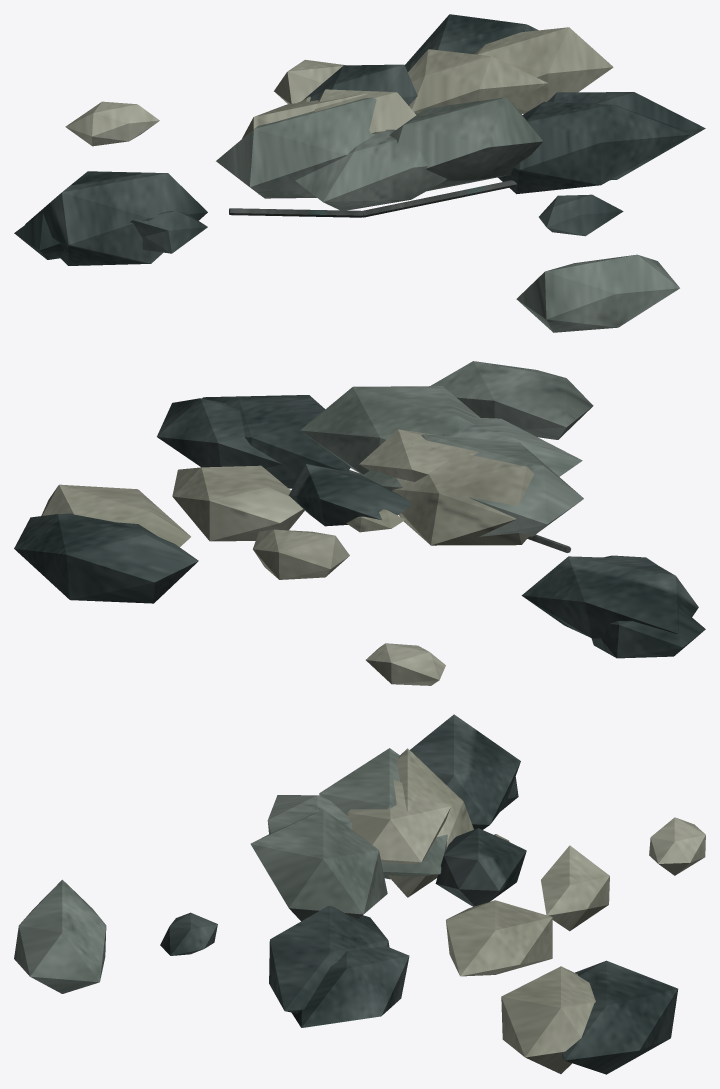
The model's file is 0112_scree_pile_12.glb.
The picture shows the model from 3 angles, top to bottom: view 1: azimuth 30°, elevation 25°; view 2: azimuth 150°, elevation 25°; view 3: azimuth 270°, elevation 25°; orthographic projection. The views are drawn at different scales.
Visible parts, largest first — view 1: stone_dark, stone, stone_light, iron; view 2: stone_dark, stone_light, stone; view 3: stone_dark, stone_light, stone.
Part boxes in pixels (<box>): stone_dark: <box>14,14,705,265</box>; stone: <box>216,97,679,332</box>; stone_light: <box>65,27,613,194</box>; iron: <box>229,180,517,217</box>; stone_dark: <box>14,395,705,658</box>; stone_light: <box>41,429,533,685</box>; stone: <box>300,361,593,536</box>; stone_dark: <box>160,714,678,1074</box>; stone_light: <box>347,748,705,1073</box>; stone: <box>14,748,447,993</box>.
Bounding box in the file's own units: 3.06 × 0.6318 × 2.87.
4 materials, 4 textured.
